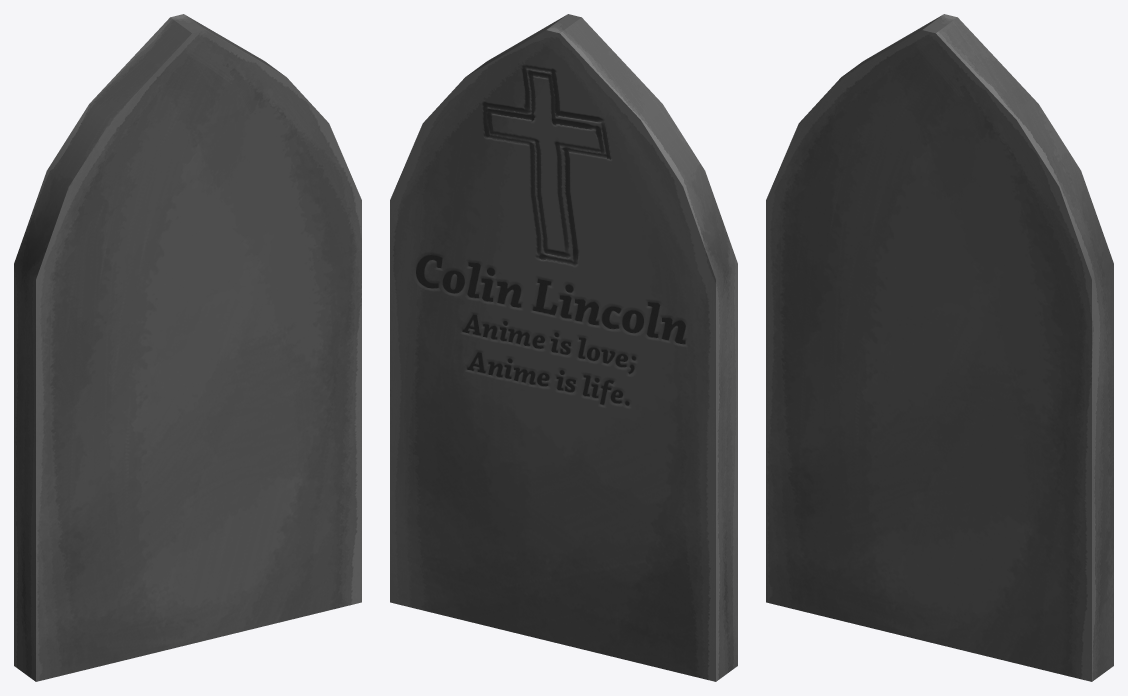
File: ColinGrave_Geo.fbx
3 views of the same model, side by side, from view 1: azimuth 30°, elevation 25°; view 2: azimuth 150°, elevation 25°; view 3: azimuth 330°, elevation 25° (orthographic).
Visible parts, largest first — view 1: ColinGrave_Geo; view 2: ColinGrave_Geo; view 3: ColinGrave_Geo.
Part boxes in pixels (x1,y1,x2,y2): ColinGrave_Geo: (14, 14, 361, 681); ColinGrave_Geo: (390, 14, 737, 681); ColinGrave_Geo: (766, 14, 1113, 681).
Size of the model in its own units: 72.67 by 130 by 8.48.
